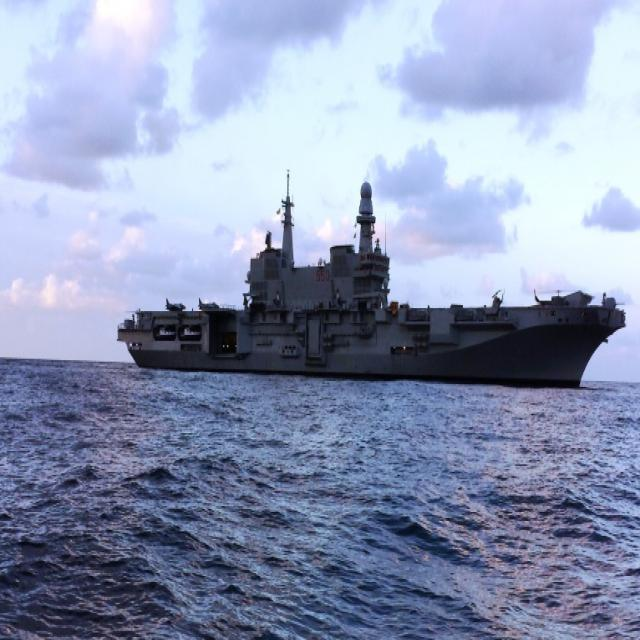Portanaves: (116, 164, 630, 396)
